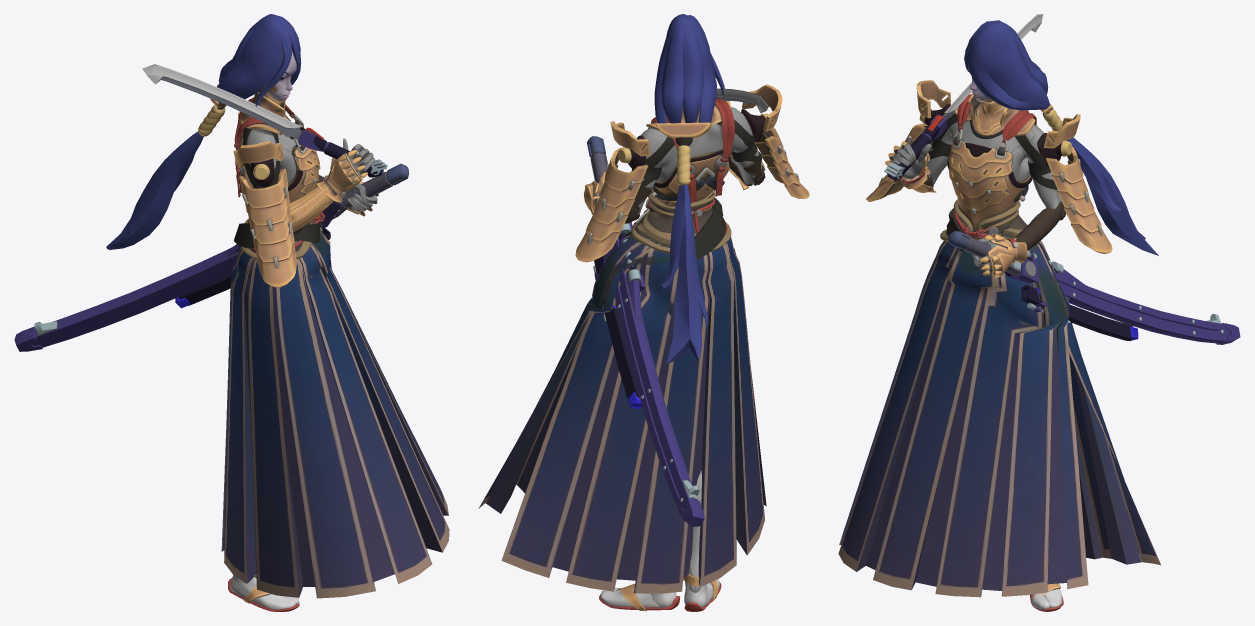
The picture shows the model from 3 angles, left to right: view 1: azimuth 30°, elevation 25°; view 2: azimuth 150°, elevation 25°; view 3: azimuth 270°, elevation 25°; orthographic projection.
Parts seen in each view (by area): view 1: models\heroes_staging\yamato_v2\yamato.vmdl_c.yamato_model, models\heroes_staging\yamato_v2\yamato.vmdl_c.yamato_weapon_ (×3); view 2: models\heroes_staging\yamato_v2\yamato.vmdl_c.yamato_model, models\heroes_staging\yamato_v2\yamato.vmdl_c.yamato_weapon_ (×3); view 3: models\heroes_staging\yamato_v2\yamato.vmdl_c.yamato_model, models\heroes_staging\yamato_v2\yamato.vmdl_c.yamato_weapon_ (×3).
Boxes of the visible parts, x1,y1,x2,y2 form: models\heroes_staging\yamato_v2\yamato.vmdl_c.yamato_model: (106,14,449,611); models\heroes_staging\yamato_v2\yamato.vmdl_c.yamato_weapon_ (×3): (14,64,408,351); models\heroes_staging\yamato_v2\yamato.vmdl_c.yamato_model: (478,14,809,611); models\heroes_staging\yamato_v2\yamato.vmdl_c.yamato_weapon_ (×3): (587,88,768,526); models\heroes_staging\yamato_v2\yamato.vmdl_c.yamato_model: (838,20,1160,611); models\heroes_staging\yamato_v2\yamato.vmdl_c.yamato_weapon_ (×3): (884,14,1240,344).
Size of the model in its own units: 1.53 by 2.77 by 1.78.
2 materials, 2 textured.
